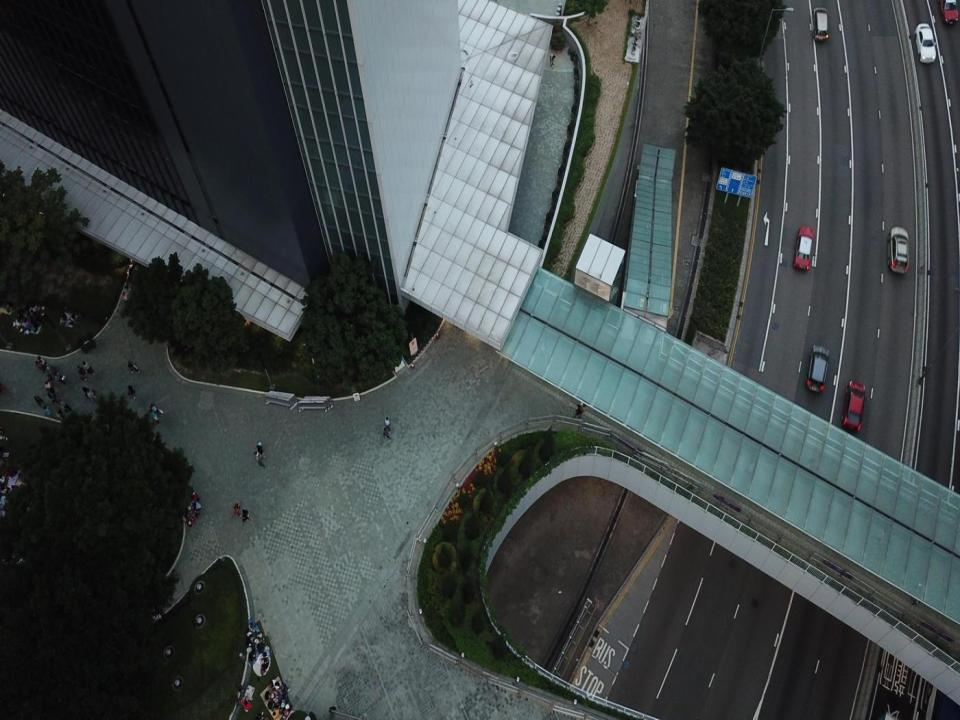car: (841, 382, 865, 433), (806, 343, 829, 393), (888, 225, 909, 272), (794, 226, 815, 270), (915, 21, 936, 62), (813, 5, 828, 41), (941, 0, 958, 25)
